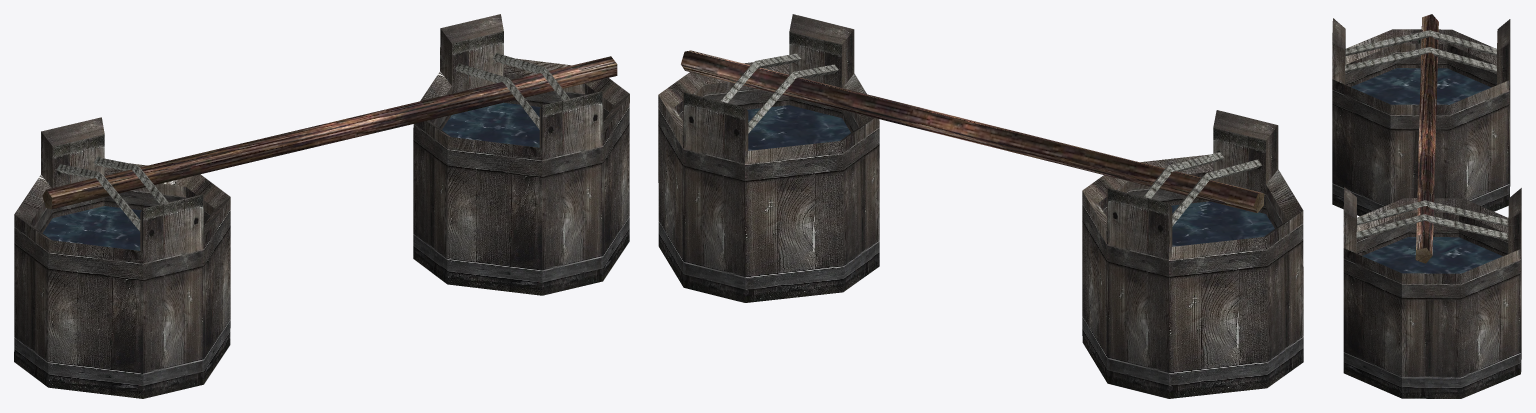
File: STATIC_WIADRA_NA_PATYKU.glb
3 views of the same model, side by side, from view 1: azimuth 30°, elevation 25°; view 2: azimuth 150°, elevation 25°; view 3: azimuth 270°, elevation 25° (orthographic). The views are drawn at different scales.
Visible parts, largest first — view 1: STATIC_WIADRA_NA_PATYKU; view 2: STATIC_WIADRA_NA_PATYKU; view 3: STATIC_WIADRA_NA_PATYKU.
Part boxes in pixels (bbox=[...]): STATIC_WIADRA_NA_PATYKU: bbox=[14, 14, 629, 398]; STATIC_WIADRA_NA_PATYKU: bbox=[658, 14, 1303, 398]; STATIC_WIADRA_NA_PATYKU: bbox=[1332, 14, 1521, 398].
Bounding box in the file's own units: 1.41 × 0.4388 × 0.4639.
Materials: 3 (3 with a texture image).
